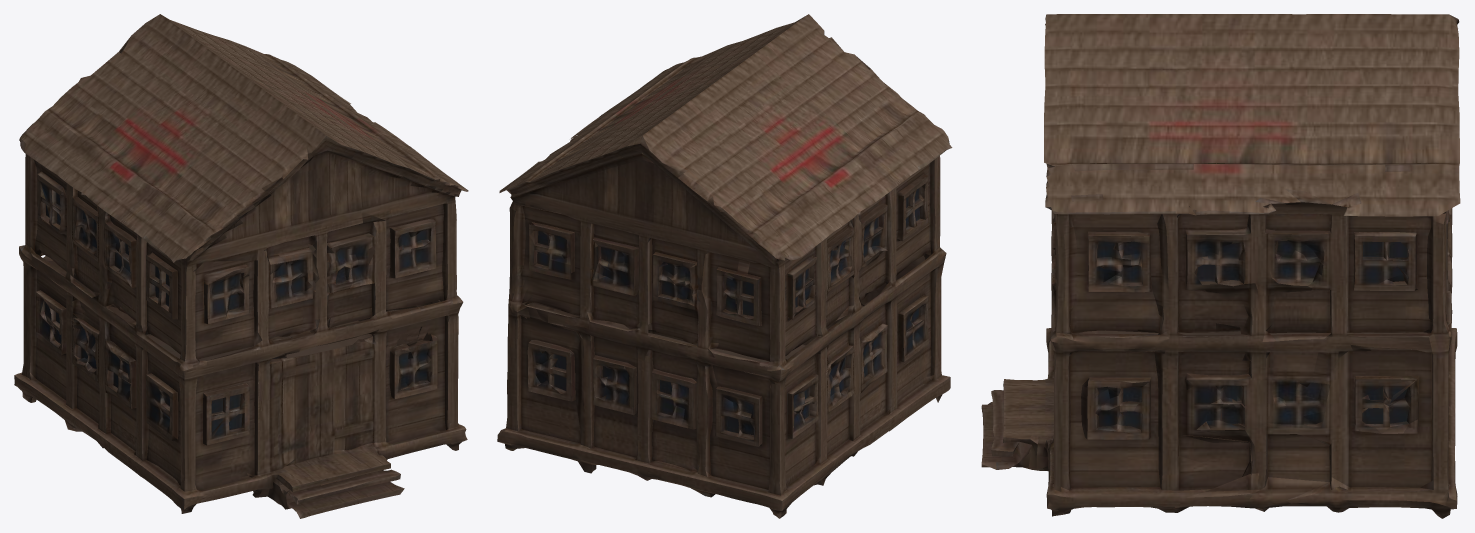
File: hospitallv1-v1.glb
The picture shows the model from 3 angles, left to right: view 1: azimuth 30°, elevation 25°; view 2: azimuth 150°, elevation 25°; view 3: azimuth 270°, elevation 25°; orthographic projection. The views are drawn at different scales.
Visible parts, largest first — view 1: Mesh0; view 2: Mesh0; view 3: Mesh0.
Boxes of the visible parts, left/top/right/bottom form: Mesh0: left=14, top=14, right=468, bottom=518; Mesh0: left=497, top=14, right=952, bottom=518; Mesh0: left=981, top=14, right=1460, bottom=518.
Size of the model in its own units: 1.21 by 1.39 by 1.4.
1 material, 1 textured.
